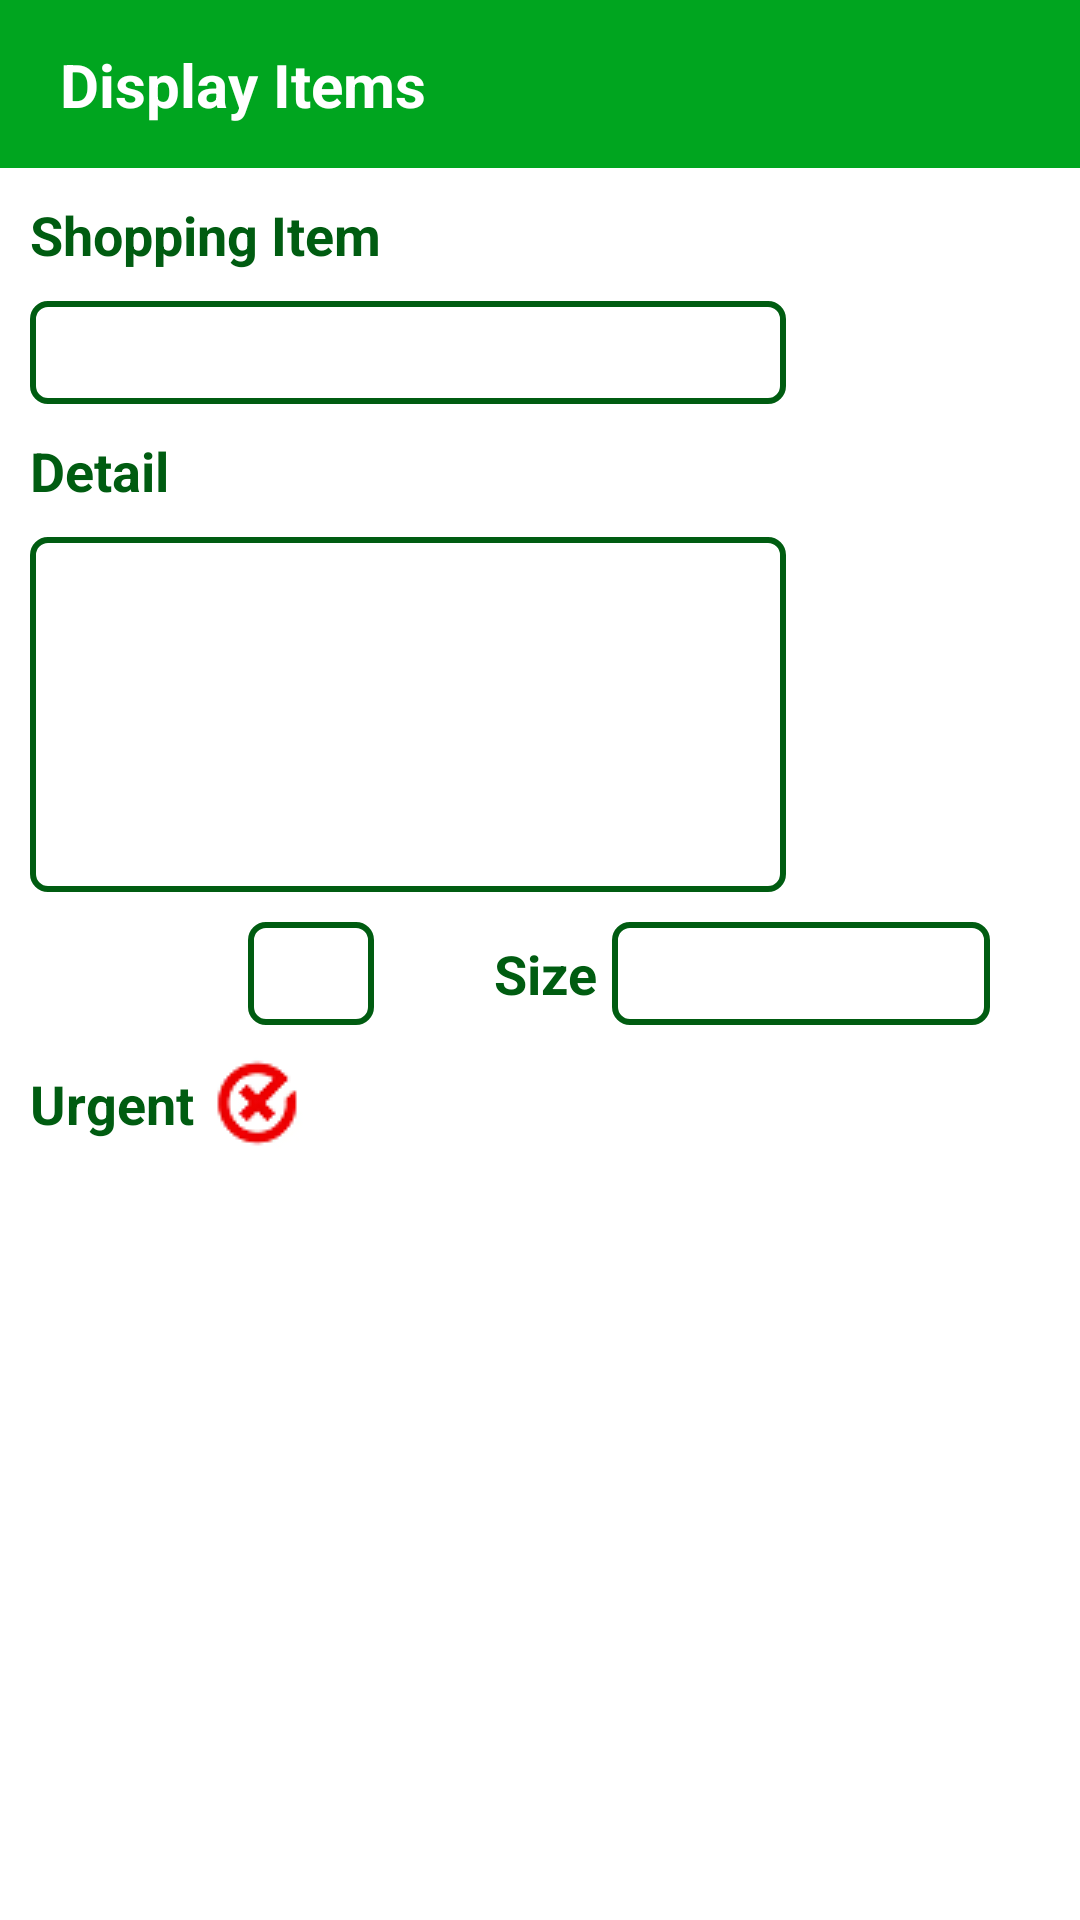

Icon click points for this 1080×1920 phone screenshot, format (x=x, y=y):
unchecked: (x=257, y=1103)
